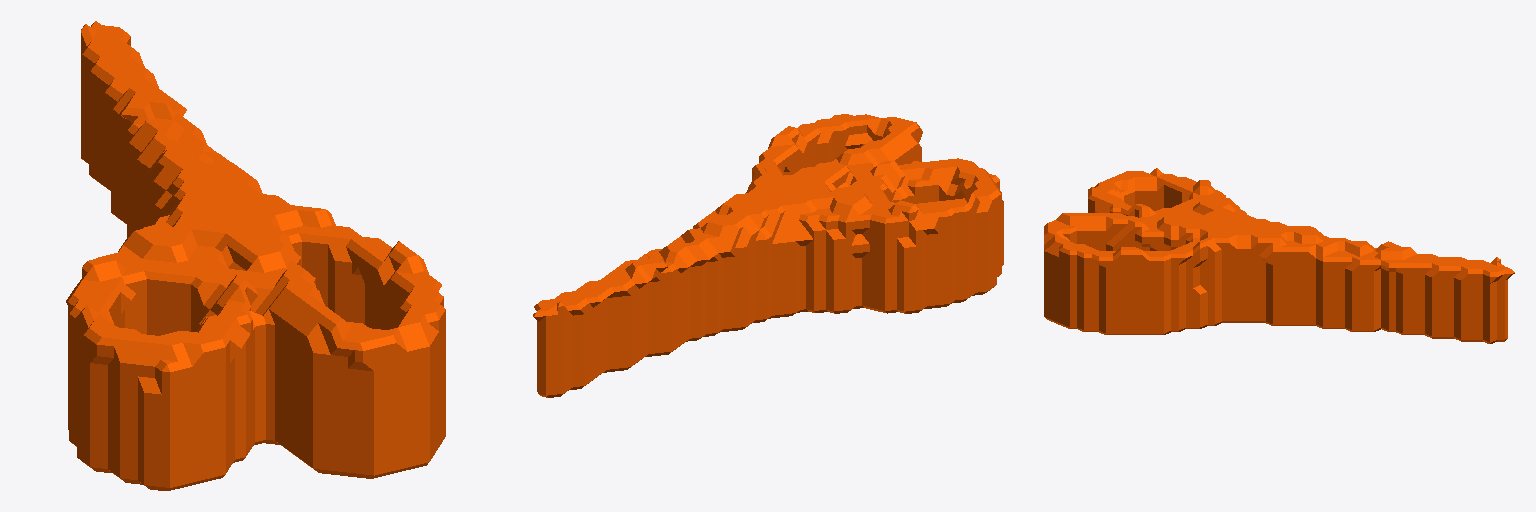
The robot description file, URDF, robot "Red_scissor":
<robot name="Red_scissor">
   <material name="obj_color">
      <color rgba="1.0 0.423529411765 0.0392156862745 1.0" />
   </material>
   <link name="top">
      <inertial>
         <origin rpy="0.0001082307803514751 0.0005018211796118139 0.0005582908168260909" xyz="-0.001728764290539363 -0.001162217133886522 -9.020710733387796e-05" />
         <mass value="0.24875" />
         <inertia ixx="0.0004654494267892661" ixy="-0.000113992664476913" ixz="5.129964746597334e-08" iyy="0.0001446161132360403" iyz="1.988932821977962e-06" izz="0.0005582772367640733" />
      </inertial>
      <visual>
         <origin rpy="0 0 0" xyz="0 0 0" />
         <geometry>
            <mesh filename="top_watertight_tiny.stl" scale="1 1 1" />
         </geometry>
         <material name="obj_color" />
      </visual>
      <collision>
         <origin rpy="0 0 0" xyz="0 0 0" />
         <geometry>
            <mesh filename="top_watertight_tiny.obj" scale="1 1 1" />
         </geometry>
      </collision>
   </link>
   <link name="bottom">
      <inertial>
         <origin rpy="1.633333333194242e-08 1.633333333194243e-08 1.633333333357667e-08" xyz="0.3464080000000008 0.3464080000000008 0.3464080000000008" />
         <mass value="0.0009800000000000017" />
         <inertia ixx="1.633333333248717e-08" ixy="5.447480642029219e-19" ixz="5.447480642029219e-19" iyy="1.633333333248717e-08" iyz="5.447480642029219e-19" izz="1.633333333248717e-08" />
      </inertial>
      <visual>
         <origin rpy="0 0 0" xyz="0 0 0" />
         <geometry>
            <mesh filename="bottom_watertight_tiny.stl" scale="1 1 1" />
         </geometry>
         <material name="obj_color" />
      </visual>
   </link>
   <joint name="rotation" type="revolute">
      <origin xyz="0 0 0" />
      <axis xyz="0 0 -1" />
      <parent link="bottom" />
      <child link="top" />
      <dynamics damping="1.0" friction="1.0" />
      <limit effort="0.1" velocity="0.1" lower="0" upper="0.001" />
   </joint>
</robot>

--- Facts derived from the render (not from the file) ---
The picture shows the robot from 3 angles, left to right: view 1: azimuth 30°, elevation 25°; view 2: azimuth 150°, elevation 25°; view 3: azimuth 270°, elevation 25°; orthographic projection.
Robot: Red_scissor — 2 links, 1 joints (1 revolute); root link bottom; default pose: all joints at 0.
Visible links, largest first — view 1: top; view 2: top; view 3: top.
Link boxes in pixels (x1,y1,x2,y2): top: (66, 21, 445, 490); top: (533, 114, 1003, 397); top: (1044, 168, 1514, 343).
Size in the robot's own frame: 0.093 by 0.189 by 0.0378 metres.
1 mesh visuals loaded from 2 distinct referenced files (1 binary STL); not drawn: 1 (reference not matched to a file when rendering).